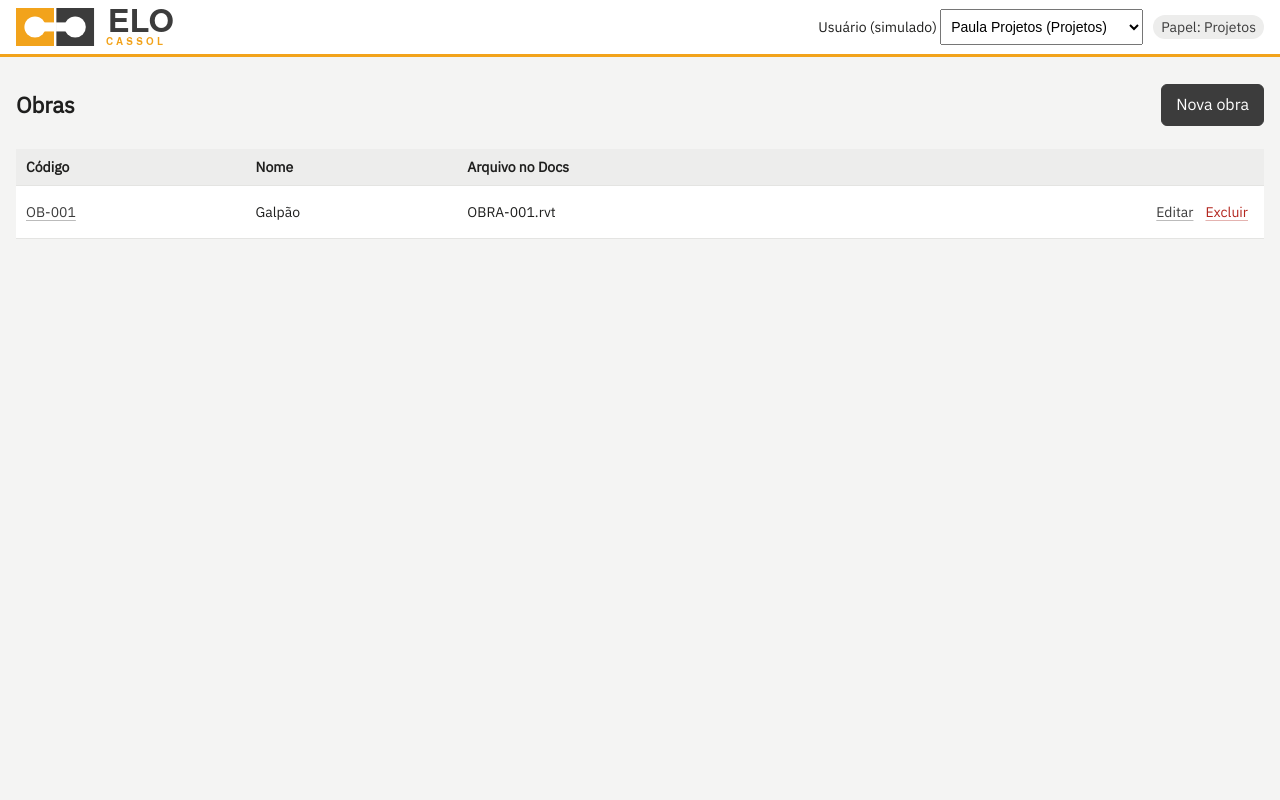
Test: Editar e excluir obra › Esc cancela a edição sem gravar
Click the button with aria-label "Editar obra OB-001" at (1175, 212), box x1=1150 y1=194 x2=1200 y2=230
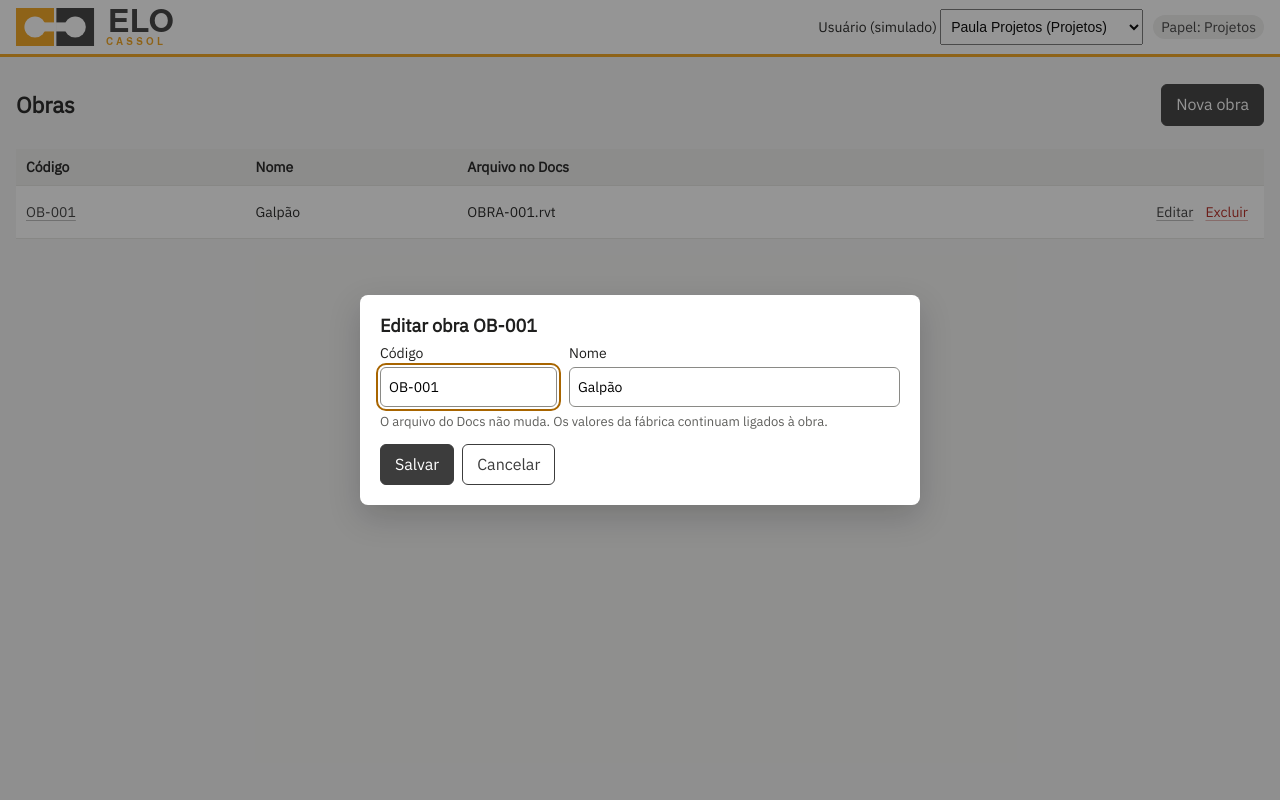
Type "X" into the field labelled "Código" at (468, 387), box x1=380 y1=367 x2=557 y2=407
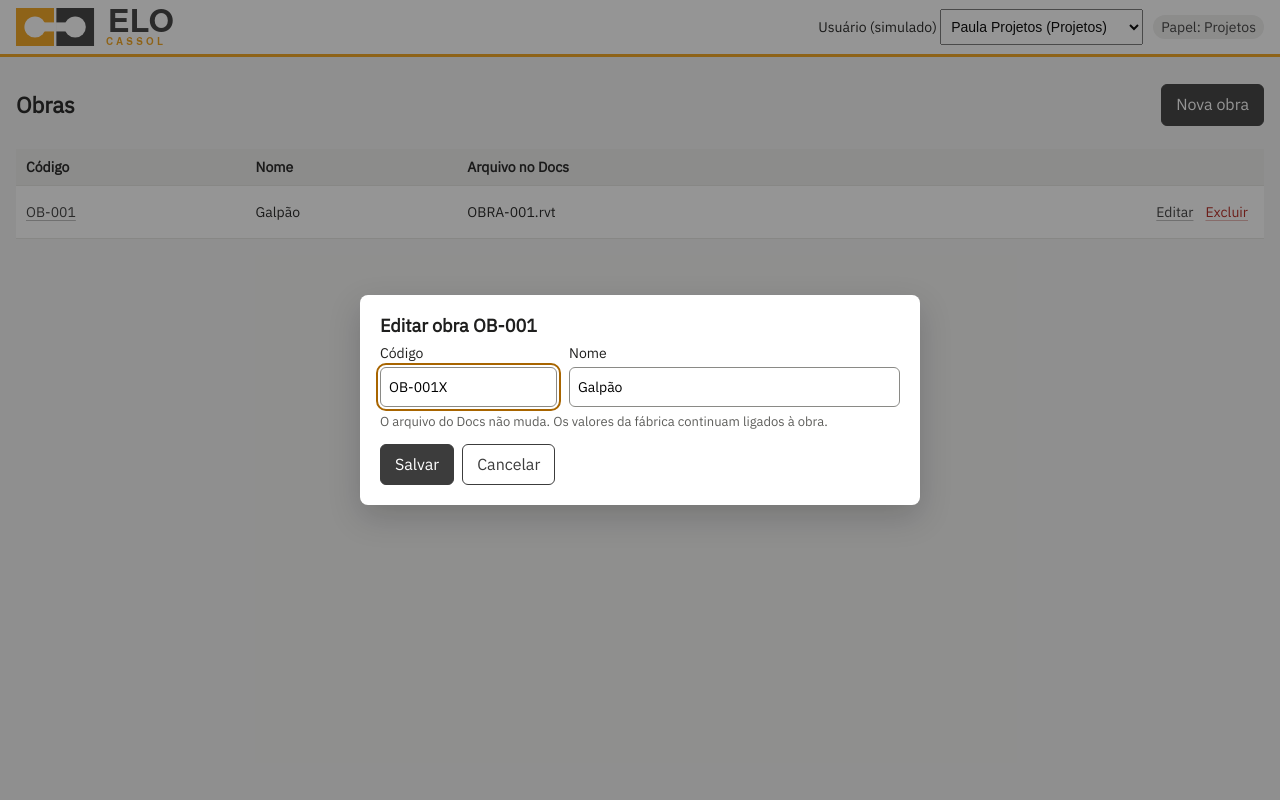
Press Escape
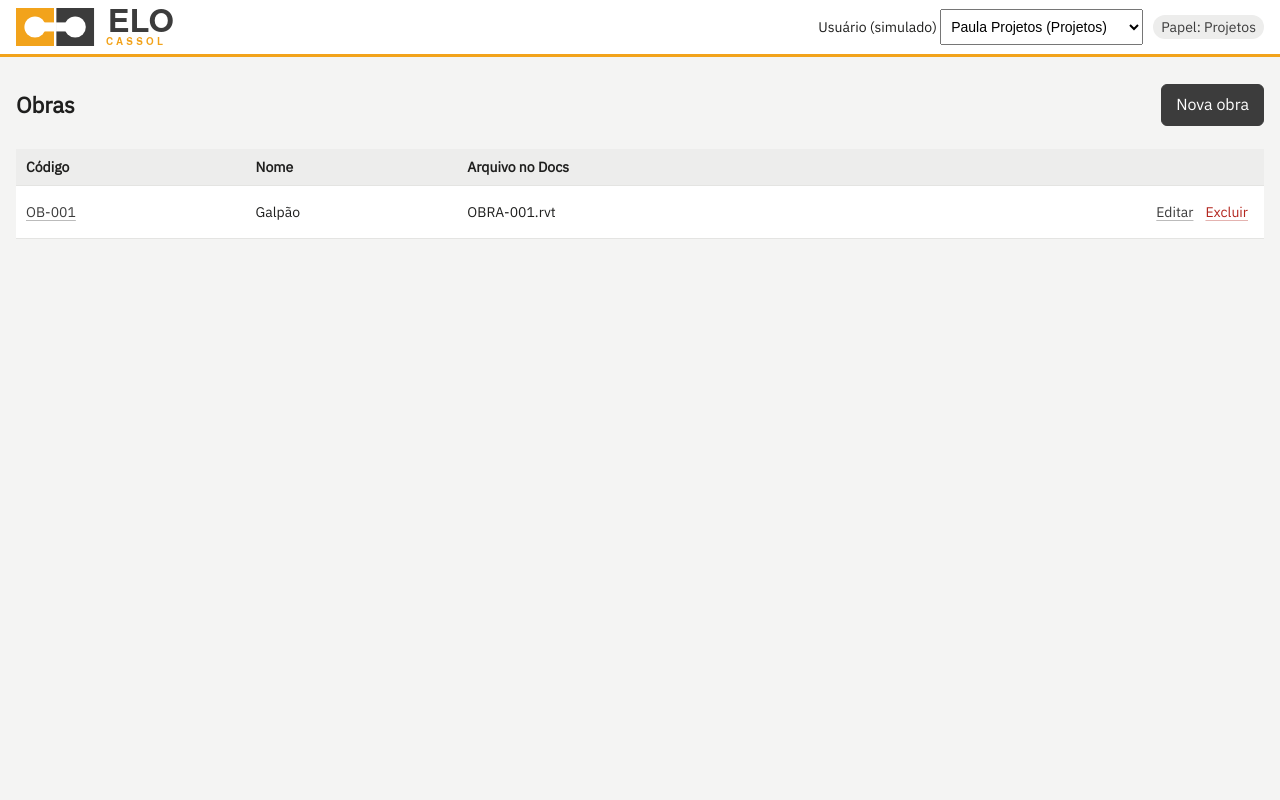
Expected: the link "OB-001" is shown, x1=26 y1=203 x2=76 y2=221
Expected: the dialog is gone
